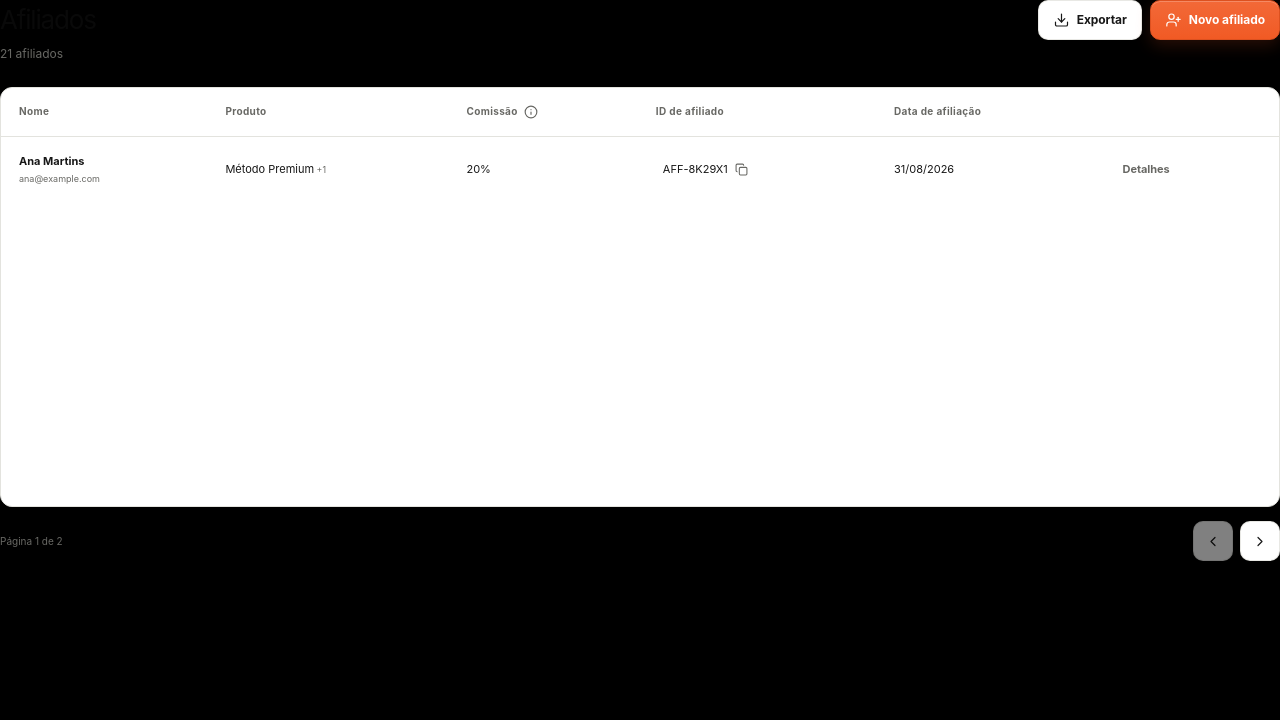
módulo de Afiliados › pagina no servidor e abre detalhes sem métricas inventadas
Check: the text "21 afiliados" is shown, box x1=0 y1=46 x2=63 y2=61
Click the button named "Próxima página": (1260, 541) x1=1240 y1=521 x2=1279 y2=561
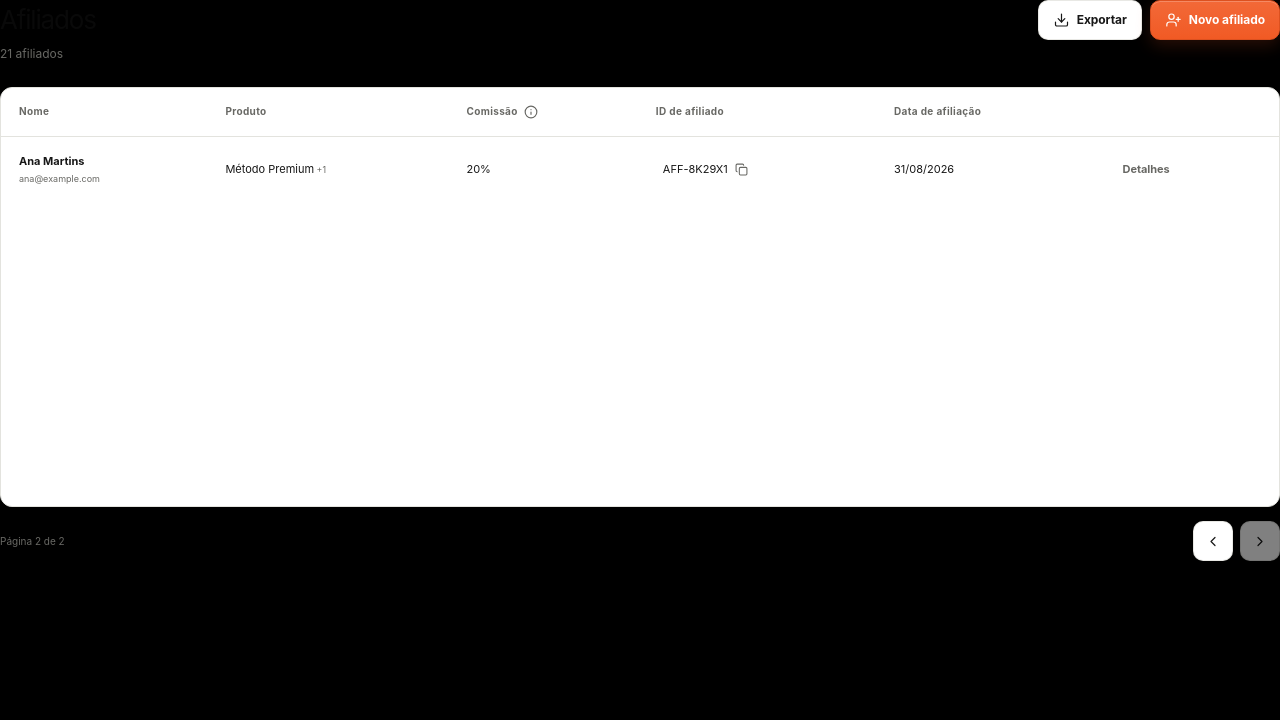
Click the button "Detalhes": (1146, 169) x1=1112 y1=153 x2=1181 y2=185
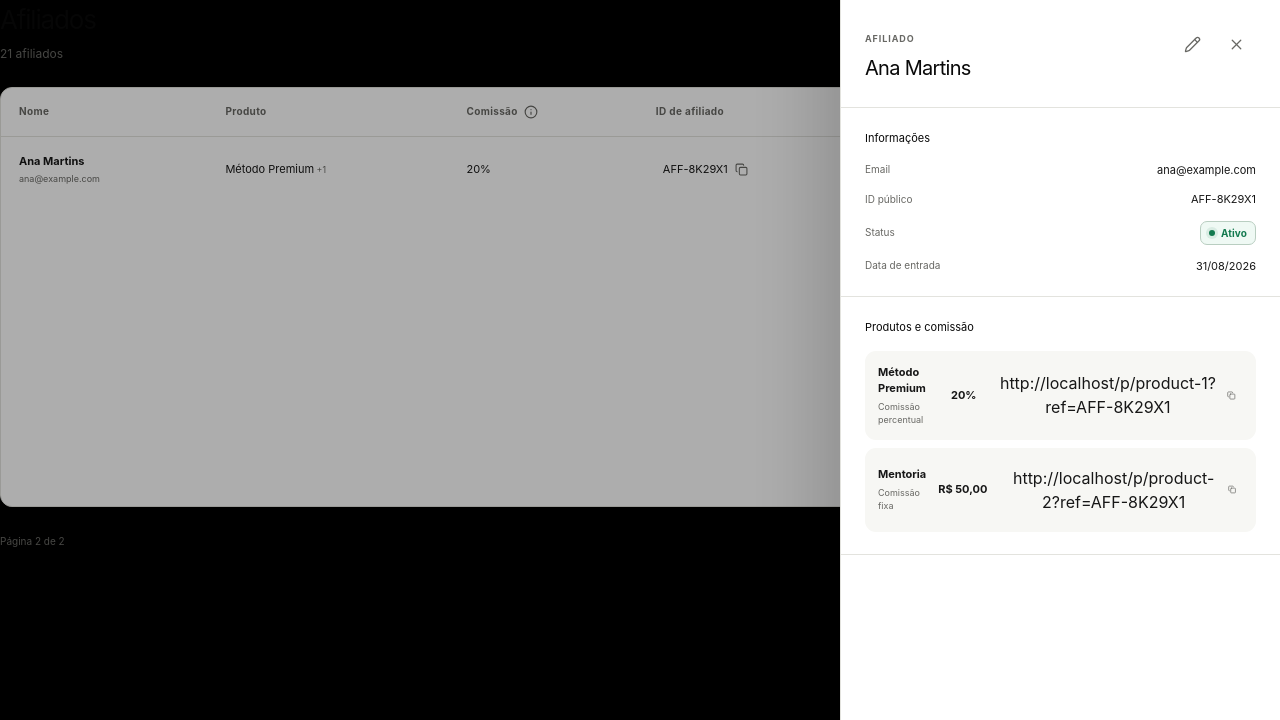
Check: the dialog "Ana Martins" does not show "Taxa de conversão", box x1=840 y1=0 x2=1279 y2=719
Check: the dialog "Ana Martins" shows "Informações", box x1=865 y1=131 x2=930 y2=145
Check: the dialog "Ana Martins" shows "Produtos e comissão", box x1=865 y1=320 x2=974 y2=334
Press Escape
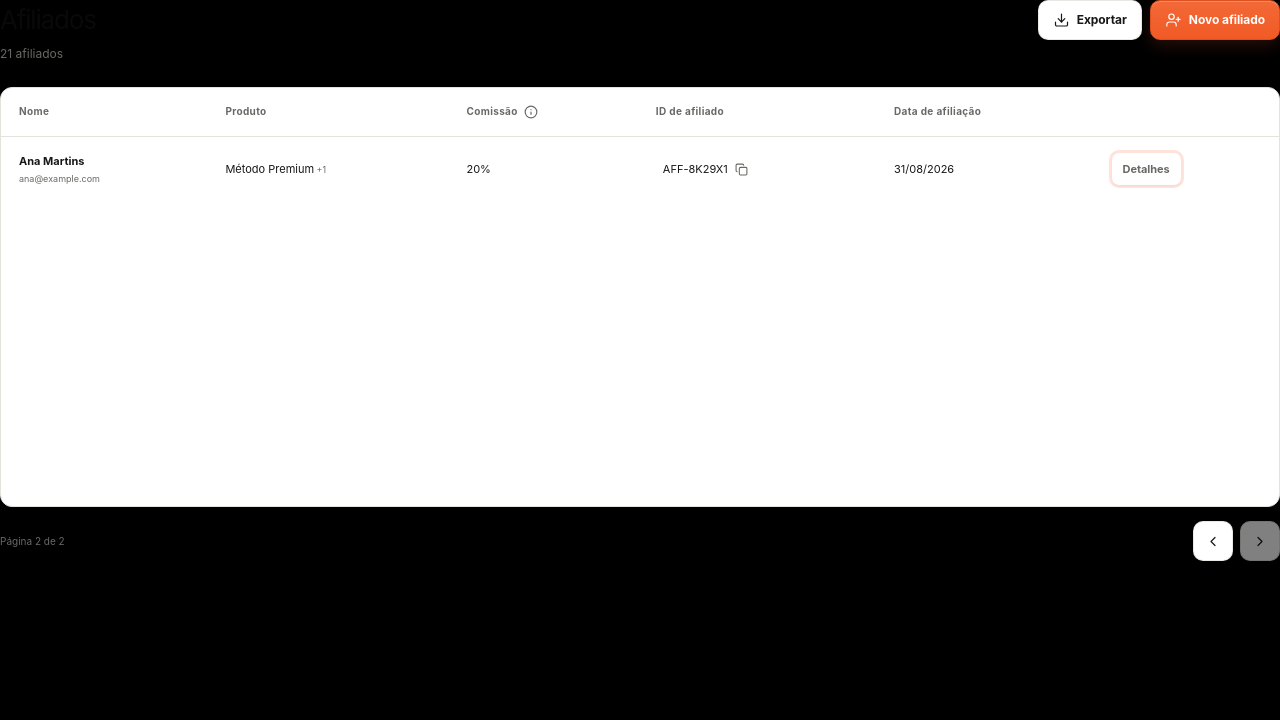
Check: the dialog is gone
